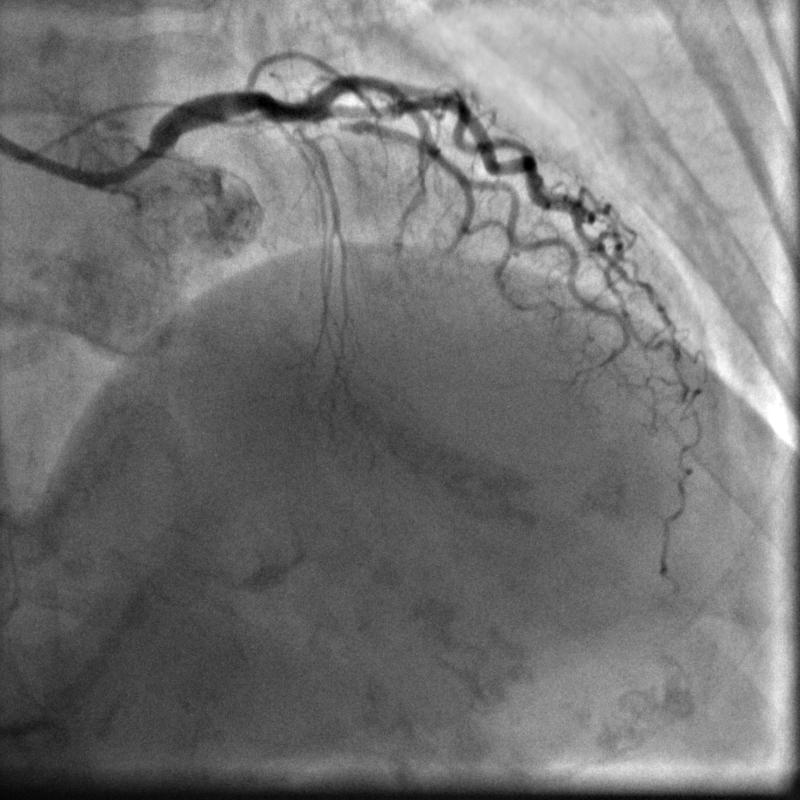Stenosis: (327, 115, 357, 131)
